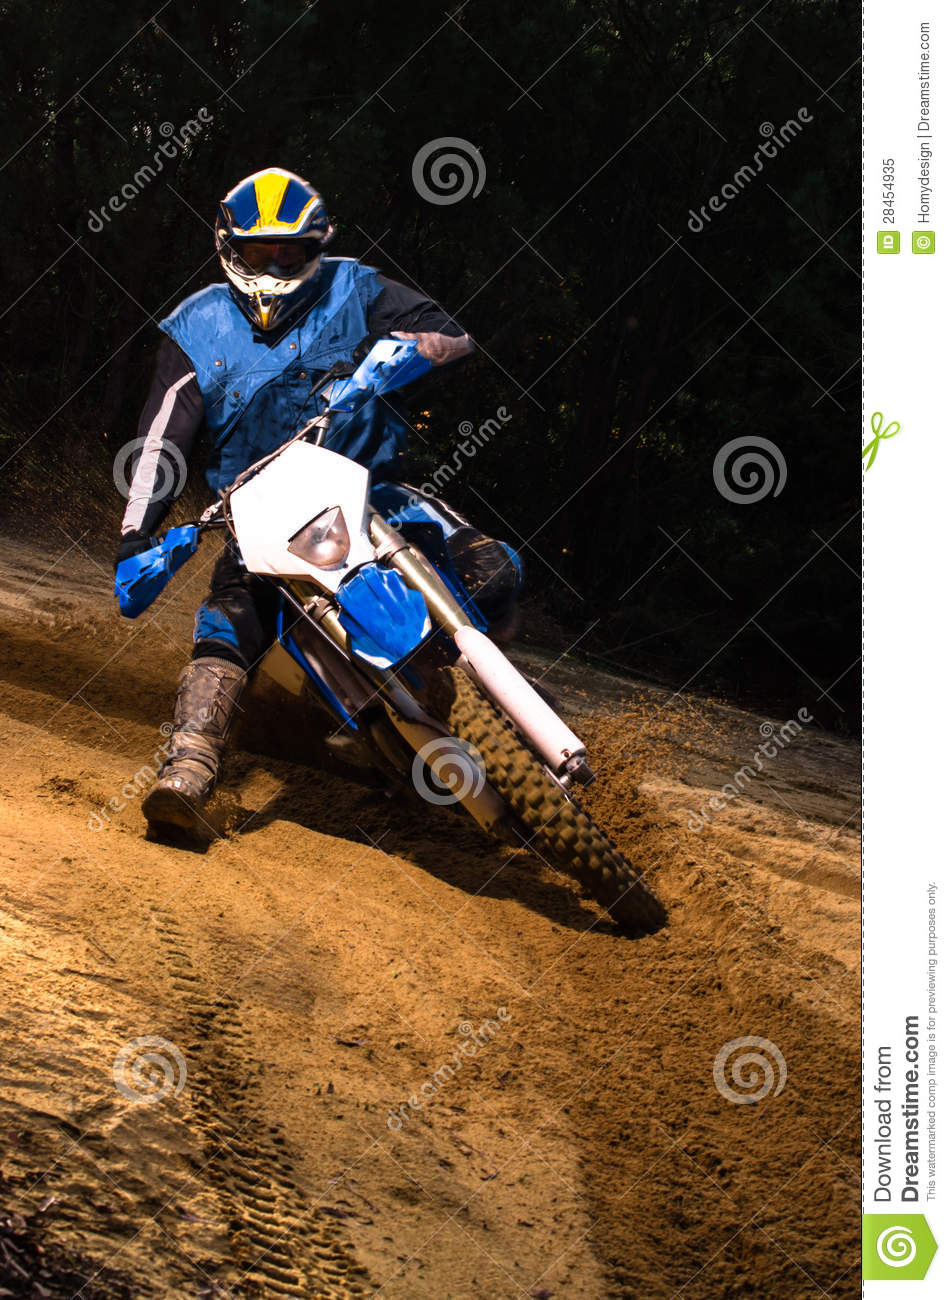helmet: (207, 161, 355, 297)
